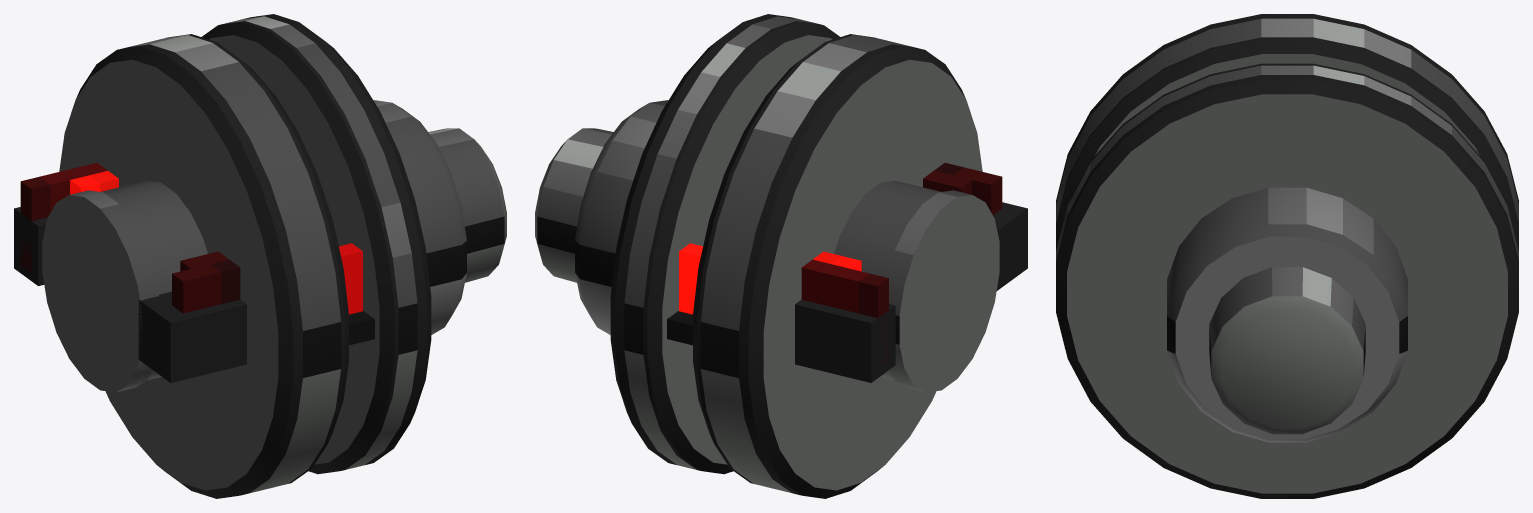
The model's file is newshl-34.glb.
3 views of the same model, side by side, from view 1: azimuth 30°, elevation 25°; view 2: azimuth 150°, elevation 25°; view 3: azimuth 270°, elevation 25° (orthographic).
Visible parts, largest first — view 1: newshl-34; view 2: newshl-34; view 3: newshl-34.
Boxes of the visible parts, left/top/right/bottom form: newshl-34: left=14, top=14, right=506, bottom=498; newshl-34: left=535, top=14, right=1027, bottom=498; newshl-34: left=1056, top=14, right=1518, bottom=498.
Bounding box in the file's own units: 1.67 × 1.74 × 1.74.
